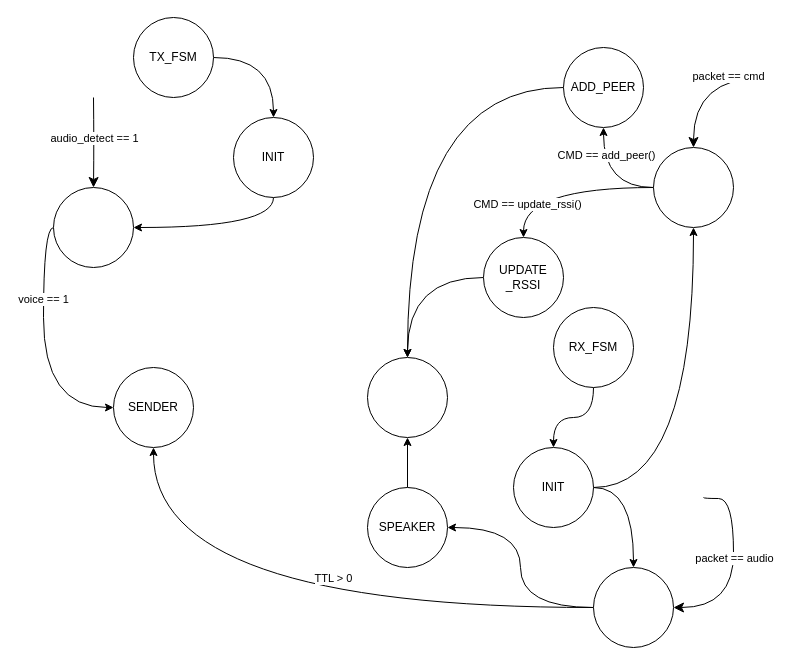
Some shapes in this 790 by 665 pixel diagram are drawn without their labels. The shapes that lost their labels are listed below. From the top down, each one's centre as x and y in pixels, then its label:
At [693,187]: "RECEIVER _CMD".
At [93,227]: "RECORDER".
At [407,397]: "IDLE".
At [633,607]: "RECEIVER _AUDIO".
